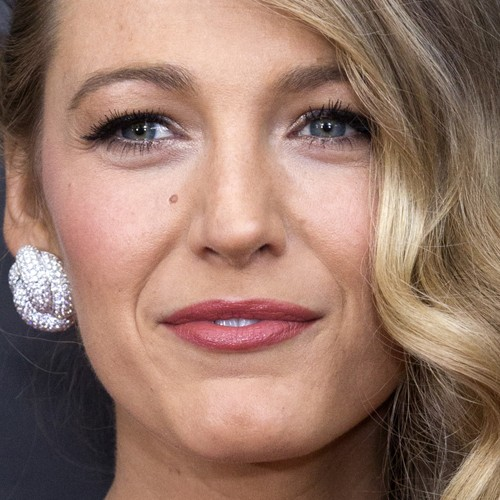tahilalat: (166, 192, 180, 206), (65, 181, 73, 188)
